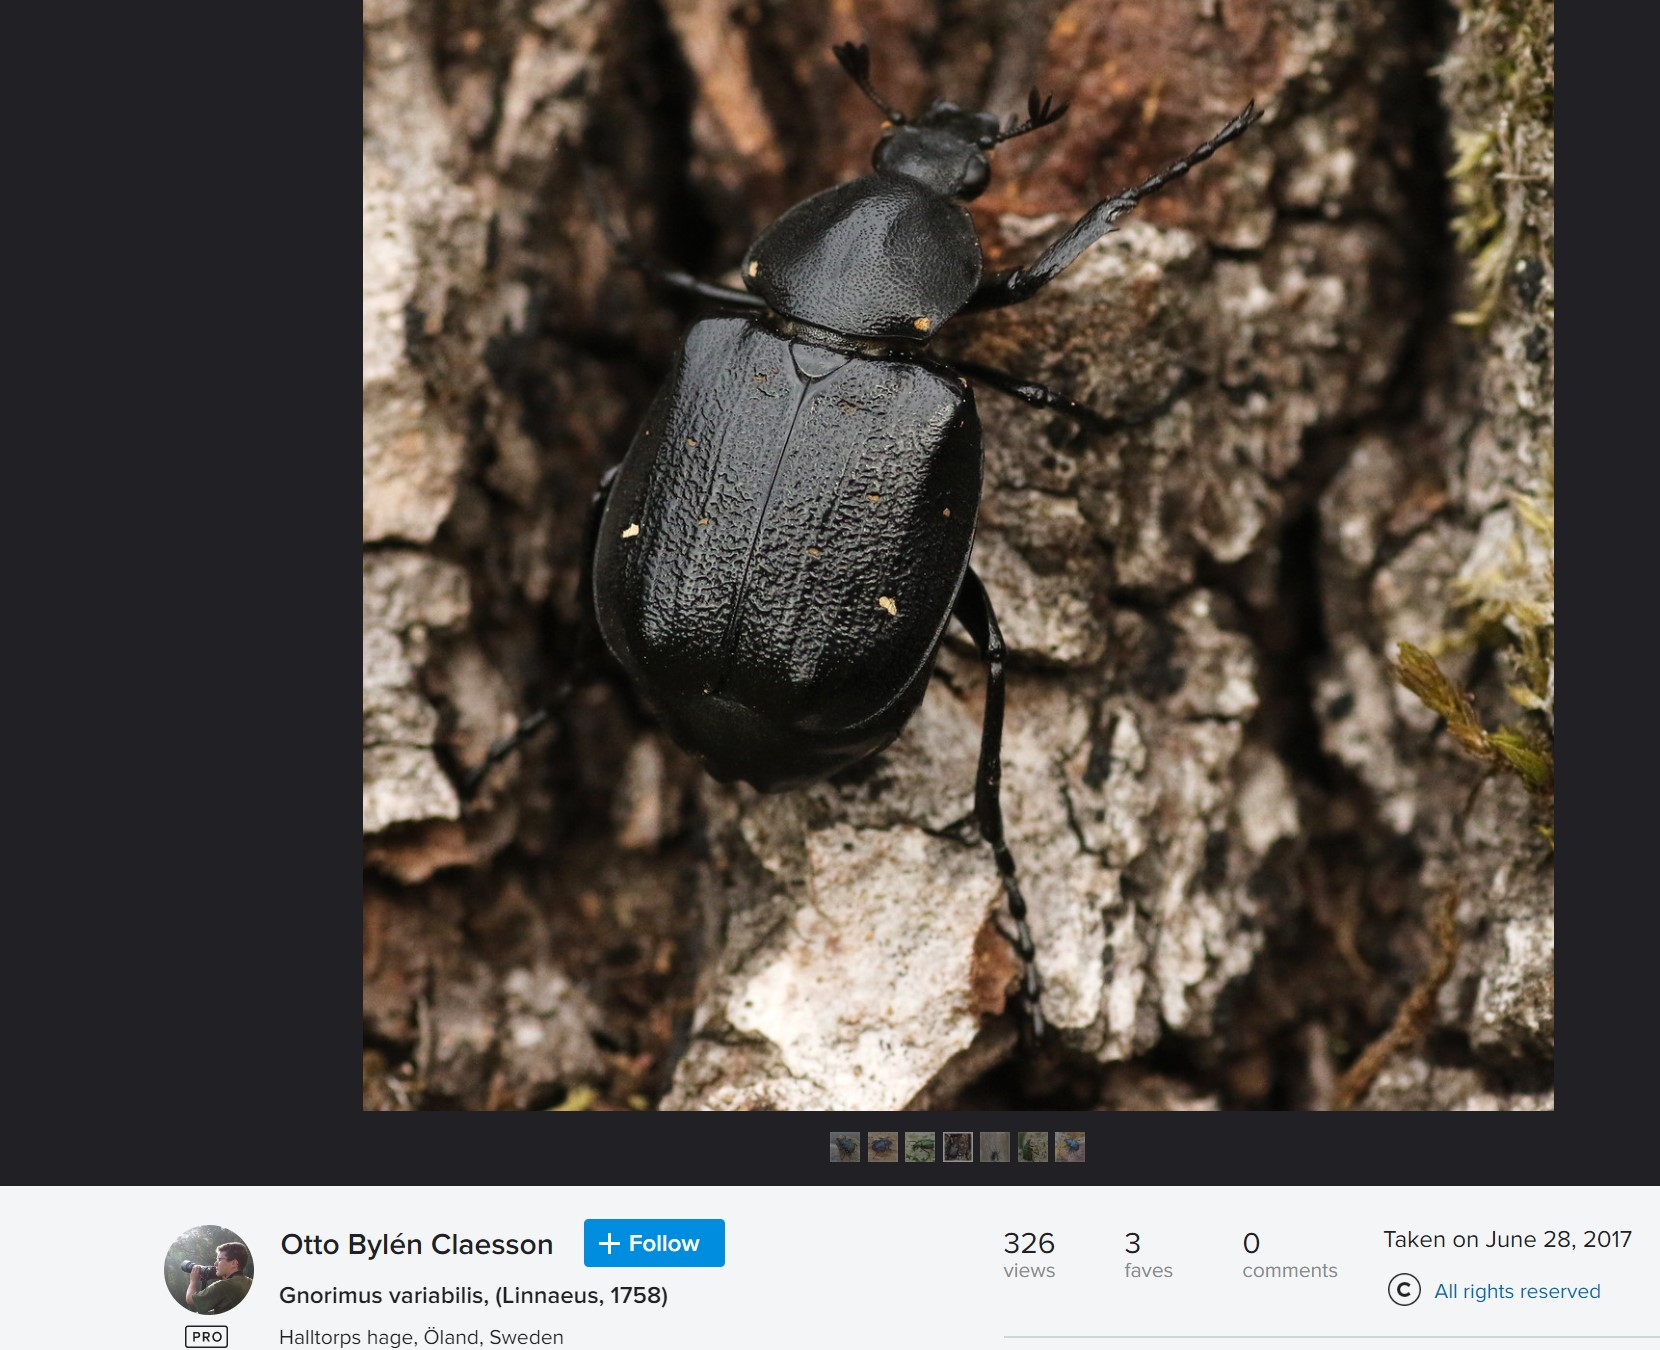Gnorimus_variabilis: (510, 23, 1300, 1043)
